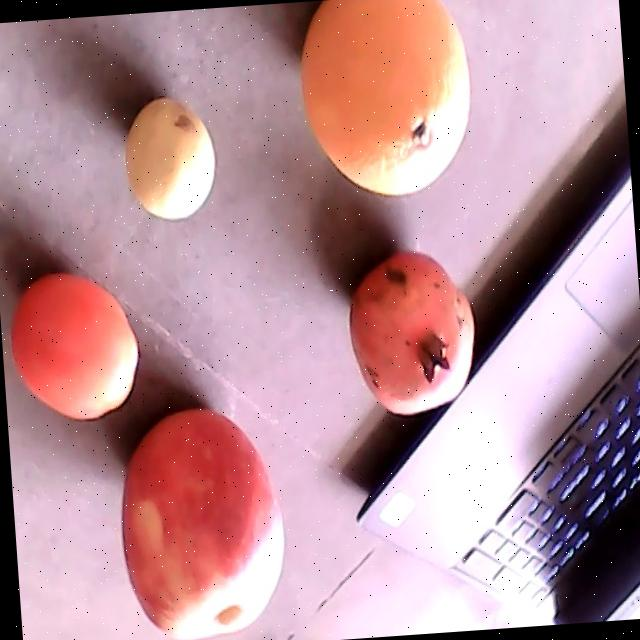apple: (120, 409, 284, 640)
lemon: (123, 95, 215, 218)
orange: (297, 0, 469, 199)
pomegranate: (346, 249, 473, 415)
tomato: (12, 272, 136, 421)
